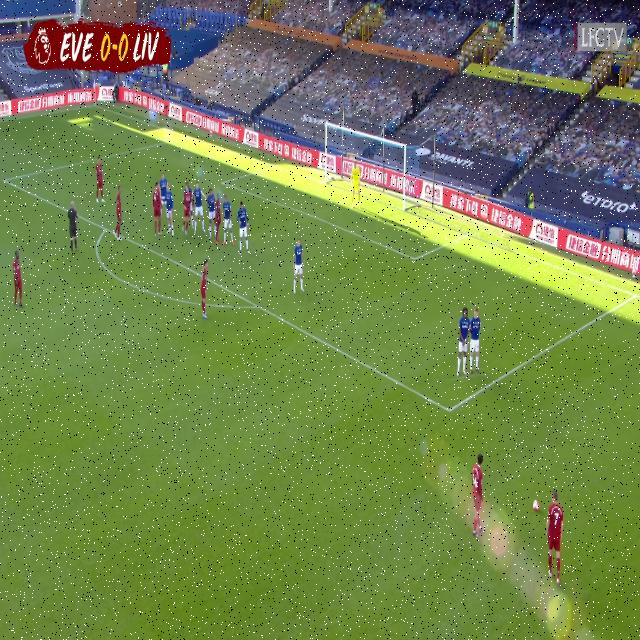Ball: (534, 498, 544, 518)
GoalKeeper: (352, 157, 366, 207)
TEAM 1: (235, 202, 254, 258), (164, 186, 184, 239), (471, 308, 486, 378), (294, 240, 309, 298), (458, 309, 470, 373), (192, 181, 206, 234), (222, 192, 234, 252), (206, 185, 216, 248), (159, 172, 172, 212)
TEAM 2: (544, 485, 566, 588), (470, 448, 491, 542), (11, 250, 30, 312), (199, 256, 215, 325), (114, 185, 128, 243), (95, 153, 108, 205), (152, 178, 162, 240), (184, 186, 192, 238), (215, 191, 222, 246)
